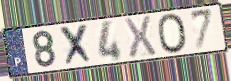4: (97, 20, 124, 63)
7: (190, 6, 215, 53)
8: (31, 30, 58, 69)
O: (155, 12, 189, 55)
X: (122, 15, 159, 61), (58, 22, 95, 68)
